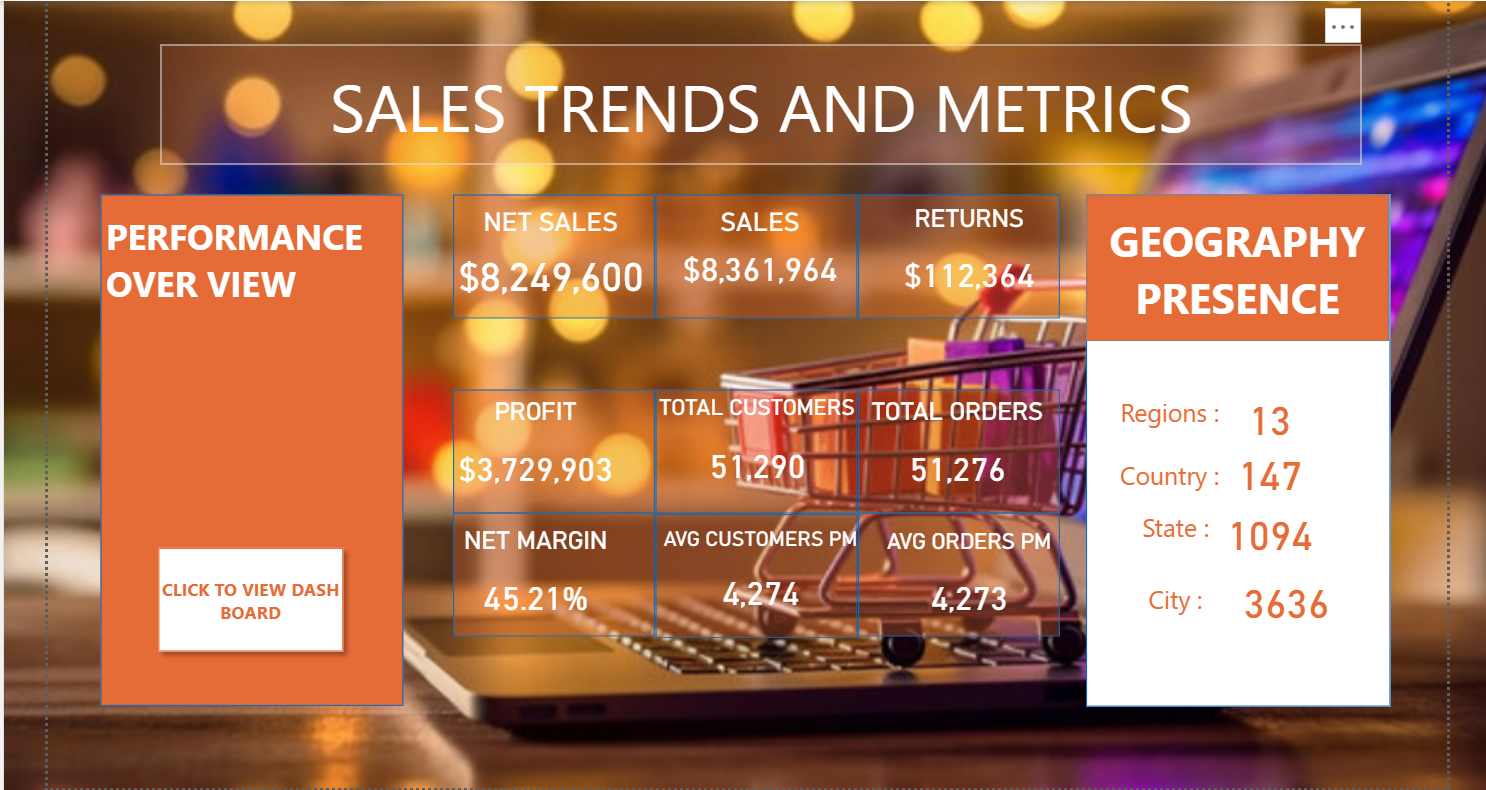

This screenshot's page, from the dashboard's own definition file:
{"tool":"powerbi","page":{"name":"main page","canvas":[1280,720],"ordinal":0},"visuals":[{"type":"shape","box":[48.5,177.2,277.1,467.9],"z":0},{"type":"shape","box":[949.3,177.7,278.6,468.6],"z":1000},{"type":"shape","box":[371,177.7,184.7,113.6],"z":2000},{"type":"shape","box":[371,354.8,184.7,113.6],"z":3000},{"type":"shape","box":[555.7,354.8,184.7,113.6],"z":4000},{"type":"shape","box":[740.4,354.8,184.7,113.6],"z":5000},{"type":"shape","box":[371,468.4,184.7,113.6],"z":6000},{"type":"shape","box":[555.7,469.9,184.7,113.6],"z":7000},{"type":"shape","box":[740.4,468.4,184.7,113.6],"z":8000},{"type":"card","title":"NET SALES","fields":{"Values":["key.NET SALES"]},"box":[363.4,188.3,192.3,95.4],"z":9000},{"type":"shape","box":[555.7,177.7,184.7,113.6],"z":10000},{"type":"shape","box":[740.4,177.7,184.7,113.6],"z":11000},{"type":"card","title":"SALES","fields":{"Values":["Sum(Sales.Sales)"]},"box":[563.3,188.3,177.2,83.3],"z":12000},{"type":"card","title":"RETURNS","fields":{"Values":["Sum(Sales.Returns.Sales Amount)"]},"box":[703.6,184.8,277.1,101.4],"z":13000},{"type":"card","title":"PROFIT","fields":{"Values":["Sum(Sales.Profit)"]},"box":[307.9,362,277.1,101.4],"z":14000},{"type":"card","title":"TOTAL CUSTOMERS","fields":{"Values":["Count(Sales.Customer ID)"]},"box":[543.6,359.1,210,104.3],"z":15000},{"type":"card","title":"TOTAL ORDERS","fields":{"Values":["Count(Sales.Order ID)"]},"box":[693.6,362,277.1,101.4],"z":16000},{"type":"card","title":"NET MARGIN","fields":{"Values":["key.NET MARGIN"]},"box":[307.9,480.5,277.1,101.4],"z":17000},{"type":"card","title":"AVG CUSTOMERS PM","fields":{"Values":["key.AVG CUSTOMERS PM"]},"box":[529.3,480.5,244.3,97.1],"z":18000},{"type":"card","title":"AVG ORDERS PM","fields":{"Values":["key.AVG ORDERS PM"]},"box":[703.6,482,277.1,101.4],"z":19000},{"type":"textbox","box":[48.5,187.8,277.1,166.6],"z":20000},{"type":"shape","box":[92.2,492,187.1,112.9],"z":21000},{"type":"shape","box":[949.3,177.7,277.1,134.3],"z":22000},{"type":"shape","box":[965,337.7,122.9,75.7],"z":23000},{"type":"shape","box":[965,394.8,122.9,75.7],"z":24000},{"type":"shape","box":[973.6,510.5,117.1,72.9],"z":25000},{"type":"shape","box":[970.7,443.4,122.9,75.7],"z":26000},{"type":"card","fields":{"Values":["Count(Sales.State)"]},"box":[1073.6,454.8,88.6,64.3],"z":27000},{"type":"card","fields":{"Values":["Count(Sales.Region)"]},"box":[1073.6,349.1,88.6,64.3],"z":28000},{"type":"card","fields":{"Values":["Count(Sales.Country)"]},"box":[1073.6,399.1,88.6,64.3],"z":29000},{"type":"card","fields":{"Values":["Count(Sales.City)"]},"box":[1087.9,516.2,88.6,64.3],"z":30000},{"type":"shape","box":[103,39.4,1099.3,110.5],"z":31000}]}

Visuals, with their boxes on the page's 1280x720 design canvas (x1, y1, x2, y2). These are canvas units, not pixel positions in the 1486x790 screenshot, which may show the page scaled, cropped or inside an application window:
shape: (48, 177, 326, 645)
shape: (949, 178, 1228, 646)
shape: (371, 178, 556, 291)
shape: (371, 355, 556, 468)
shape: (556, 355, 740, 468)
shape: (740, 355, 925, 468)
shape: (371, 468, 556, 582)
shape: (556, 470, 740, 584)
shape: (740, 468, 925, 582)
"NET SALES" card: (363, 188, 556, 284)
shape: (556, 178, 740, 291)
shape: (740, 178, 925, 291)
"SALES" card: (563, 188, 740, 272)
"RETURNS" card: (704, 185, 981, 286)
"PROFIT" card: (308, 362, 585, 463)
"TOTAL CUSTOMERS" card: (544, 359, 754, 463)
"TOTAL ORDERS" card: (694, 362, 971, 463)
"NET MARGIN" card: (308, 480, 585, 582)
"AVG CUSTOMERS PM" card: (529, 480, 774, 578)
"AVG ORDERS PM" card: (704, 482, 981, 583)
textbox: (48, 188, 326, 354)
shape: (92, 492, 279, 605)
shape: (949, 178, 1226, 312)
shape: (965, 338, 1088, 413)
shape: (965, 395, 1088, 470)
shape: (974, 510, 1091, 583)
shape: (971, 443, 1094, 519)
card - Count(Sales.State): (1074, 455, 1162, 519)
card - Count(Sales.Region): (1074, 349, 1162, 413)
card - Count(Sales.Country): (1074, 399, 1162, 463)
card - Count(Sales.City): (1088, 516, 1176, 580)
shape: (103, 39, 1202, 150)
